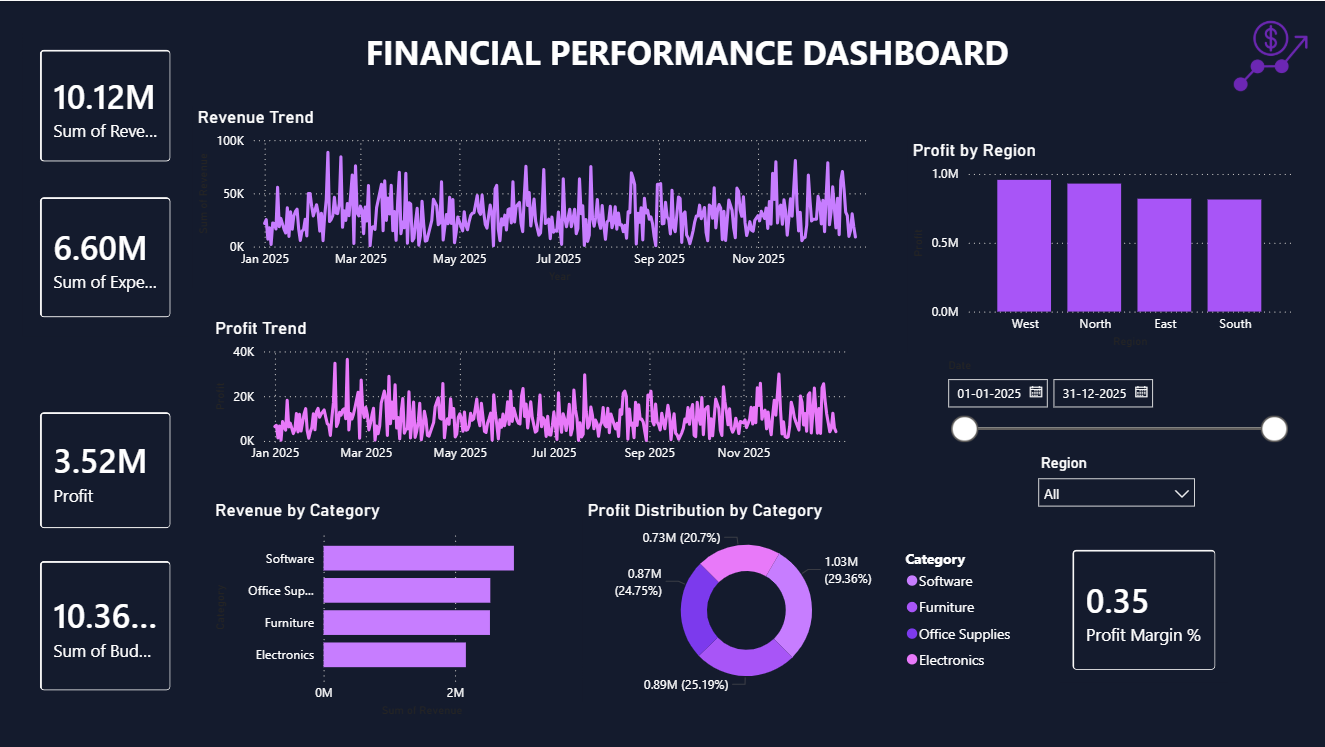

The page's visual inventory and layout, read from the dashboard file:
{"tool":"powerbi","page":{"name":"Page 1","canvas":[1280,720],"ordinal":0},"visuals":[{"type":"cardVisual","title":"Revenue Trend","fields":{"Data":["Sum(Financial_Dashboard_Dataset.Revenue)"]},"box":[22,30.2,160.5,142.7],"z":0},{"type":"cardVisual","fields":{"Data":["Sum(Financial_Dashboard_Dataset.Expenses)"]},"box":[22,172.9,160.5,150.9],"z":1000},{"type":"cardVisual","title":"Profit Trend","fields":{"Data":["Financial_Dashboard_Dataset.Profit"]},"box":[22,380.1,160.5,146.8],"z":2000},{"type":"cardVisual","fields":{"Data":["Sum(Financial_Dashboard_Dataset.Budget)"]},"box":[22,524.2,160.5,159.2],"z":3000},{"type":"lineChart","title":"Revenue Trend","fields":{"Y":["Sum(Financial_Dashboard_Dataset.Revenue)"],"Category":["Financial_Dashboard_Dataset.Date.Variation.Date Hierarchy.Year","Financial_Dashboard_Dataset.Date.Variation.Date Hierarchy.Quarter","Financial_Dashboard_Dataset.Date.Variation.Date Hierarchy.Month","Financial_Dashboard_Dataset.Date.Variation.Date Hierarchy.Day","Financial_Dashboard_Dataset.Date.Variation.Date Hierarchy.Year","Financial_Dashboard_Dataset.Date.Variation.Date Hierarchy.Quarter","Financial_Dashboard_Dataset.Date.Variation.Date Hierarchy.Month","Financial_Dashboard_Dataset.Date.Variation.Date Hierarchy.Day"]},"box":[185.2,101.5,671,175.6],"z":4000},{"type":"lineChart","title":"Profit Trend","fields":{"Y":["Financial_Dashboard_Dataset.Profit"],"Category":["Financial_Dashboard_Dataset.Date"]},"box":[203.1,304.6,635.3,149.6],"z":5000},{"type":"barChart","title":"Revenue by Category","fields":{"Y":["Sum(Financial_Dashboard_Dataset.Revenue)"],"Category":["Financial_Dashboard_Dataset.Category"]},"box":[203.1,481.6,314.2,214.1],"z":6000},{"type":"clusteredColumnChart","title":"Profit by Region","fields":{"Category":["Financial_Dashboard_Dataset.Region"],"Y":["Financial_Dashboard_Dataset.Profit"]},"box":[875.5,134.5,376,205.8],"z":7000},{"type":"donutChart","title":"Profit Distribution by Category","fields":{"Category":["Financial_Dashboard_Dataset.Category"],"Y":["Financial_Dashboard_Dataset.Profit"]},"box":[562.6,481.6,426.8,194.9],"z":8000},{"type":"slicer","fields":{"Values":["Financial_Dashboard_Dataset.Region"]},"box":[992.1,432.2,171.5,115.3],"z":8001},{"type":"textbox","box":[321.1,23.3,684.7,57.6],"z":8003},{"type":"image","box":[1191.1,15.1,71.4,74.1],"z":8004},{"type":"slicer","fields":{"Values":["Financial_Dashboard_Dataset.Date"]},"box":[902.9,340.3,348.5,91.9],"z":8005},{"type":"cardVisual","fields":{"Data":["Financial_Dashboard_Dataset.Profit Margin %"]},"box":[1018.2,512.7,172.5,150.8],"z":8006}]}

Visuals, with their boxes in screenshot pixels (x1, y1, x2, y2), scaled from the page's 1280x720 canvas onto the 1325x747 screenshot:
"Revenue Trend" cardVisual: {"x1": 23, "y1": 31, "x2": 189, "y2": 179}
cardVisual - Sum(Financial_Dashboard_Dataset.Expenses): {"x1": 23, "y1": 179, "x2": 189, "y2": 336}
"Profit Trend" cardVisual: {"x1": 23, "y1": 394, "x2": 189, "y2": 547}
cardVisual - Sum(Financial_Dashboard_Dataset.Budget): {"x1": 23, "y1": 544, "x2": 189, "y2": 709}
"Revenue Trend" lineChart: {"x1": 192, "y1": 105, "x2": 886, "y2": 287}
"Profit Trend" lineChart: {"x1": 210, "y1": 316, "x2": 868, "y2": 471}
"Revenue by Category" barChart: {"x1": 210, "y1": 500, "x2": 535, "y2": 722}
"Profit by Region" clusteredColumnChart: {"x1": 906, "y1": 140, "x2": 1295, "y2": 353}
"Profit Distribution by Category" donutChart: {"x1": 582, "y1": 500, "x2": 1024, "y2": 702}
slicer - Financial_Dashboard_Dataset.Region: {"x1": 1027, "y1": 448, "x2": 1205, "y2": 568}
textbox: {"x1": 332, "y1": 24, "x2": 1041, "y2": 84}
image: {"x1": 1233, "y1": 16, "x2": 1307, "y2": 93}
slicer - Financial_Dashboard_Dataset.Date: {"x1": 935, "y1": 353, "x2": 1295, "y2": 448}
cardVisual - Financial_Dashboard_Dataset.Profit Margin %: {"x1": 1054, "y1": 532, "x2": 1233, "y2": 688}
